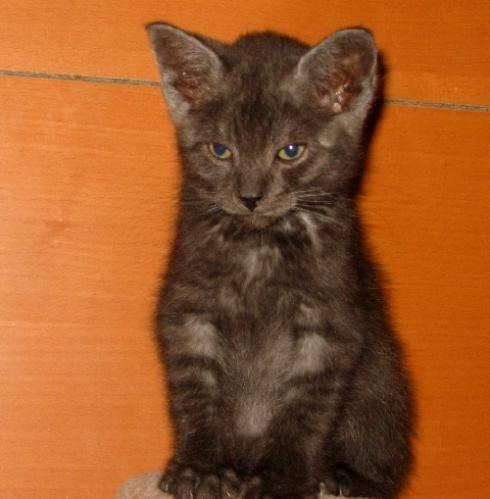cat: (147, 22, 414, 498)
